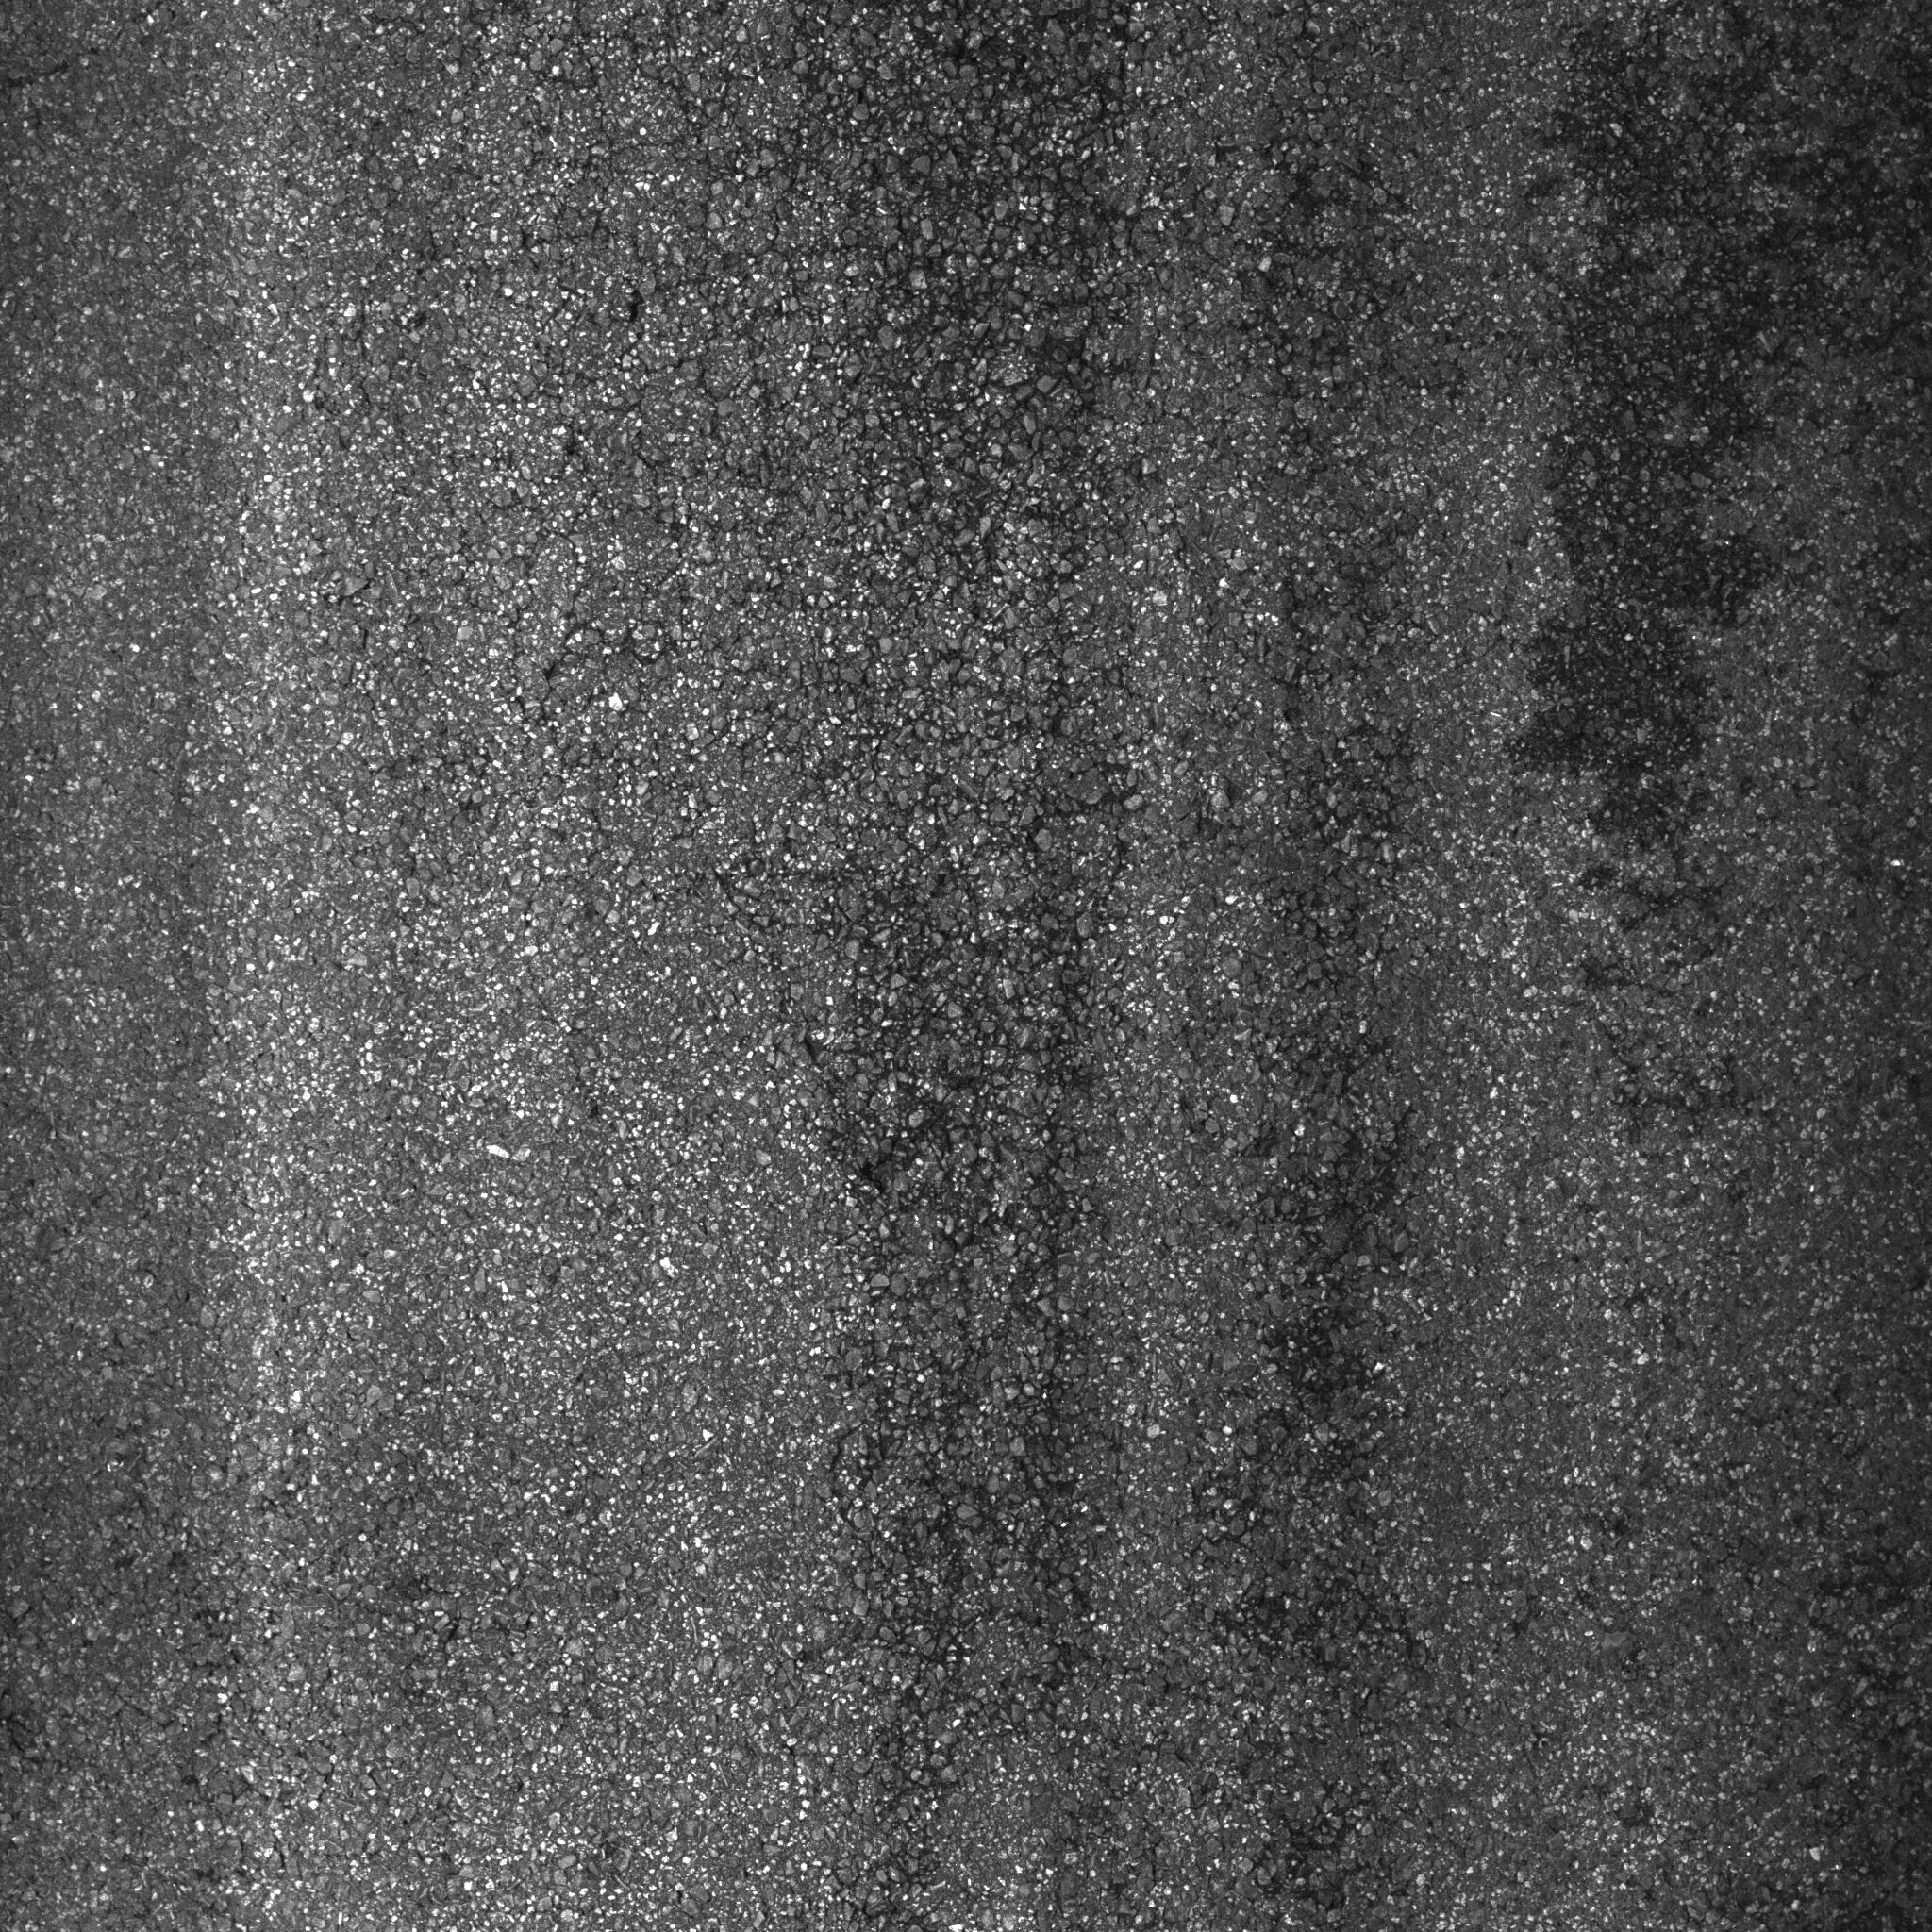alligator: (472, 37, 1858, 1714)
